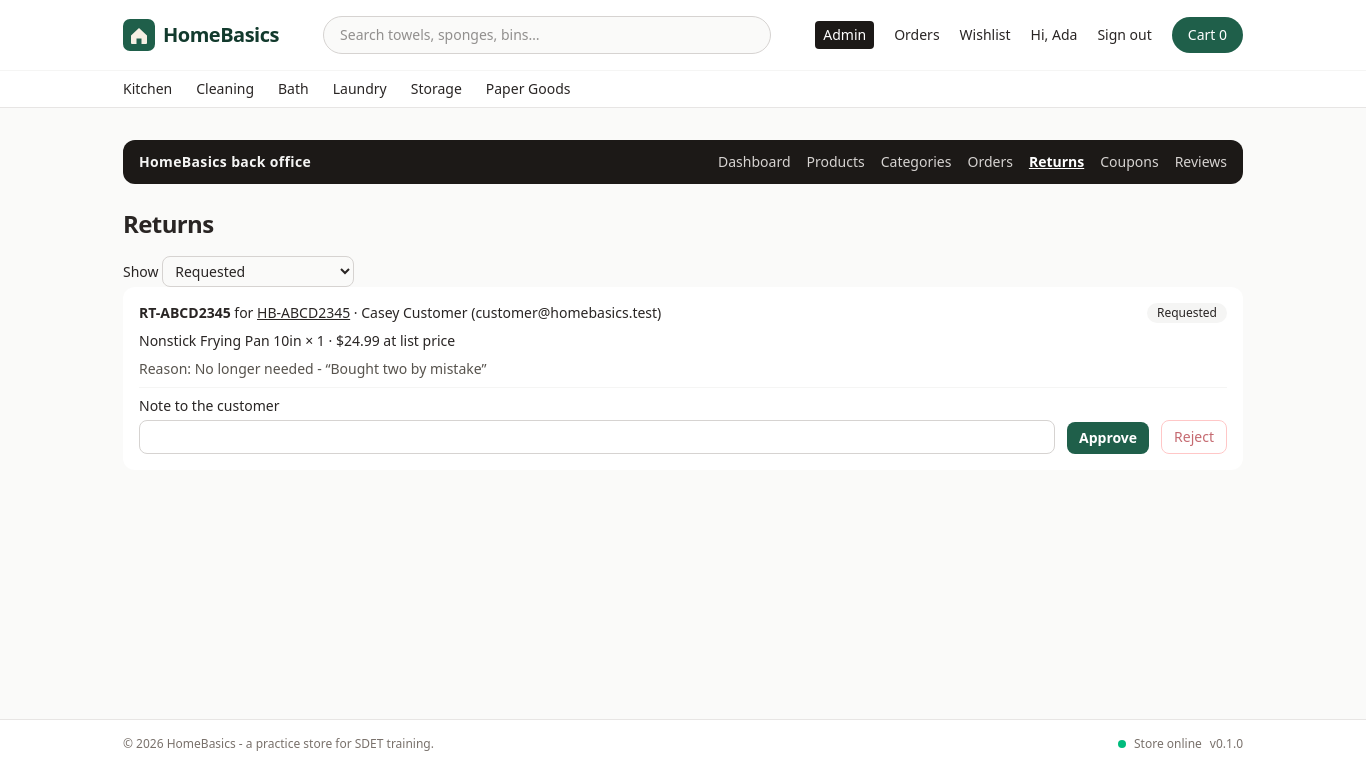
Test case: admin returns (ADM-07) › shows a conflict from the server
What coordinates should you click on to do the following:
click the button with test id "return-approve"
I would click on:
 (1108, 438)
Its box is x1=1067 y1=422 x2=1149 y2=454.
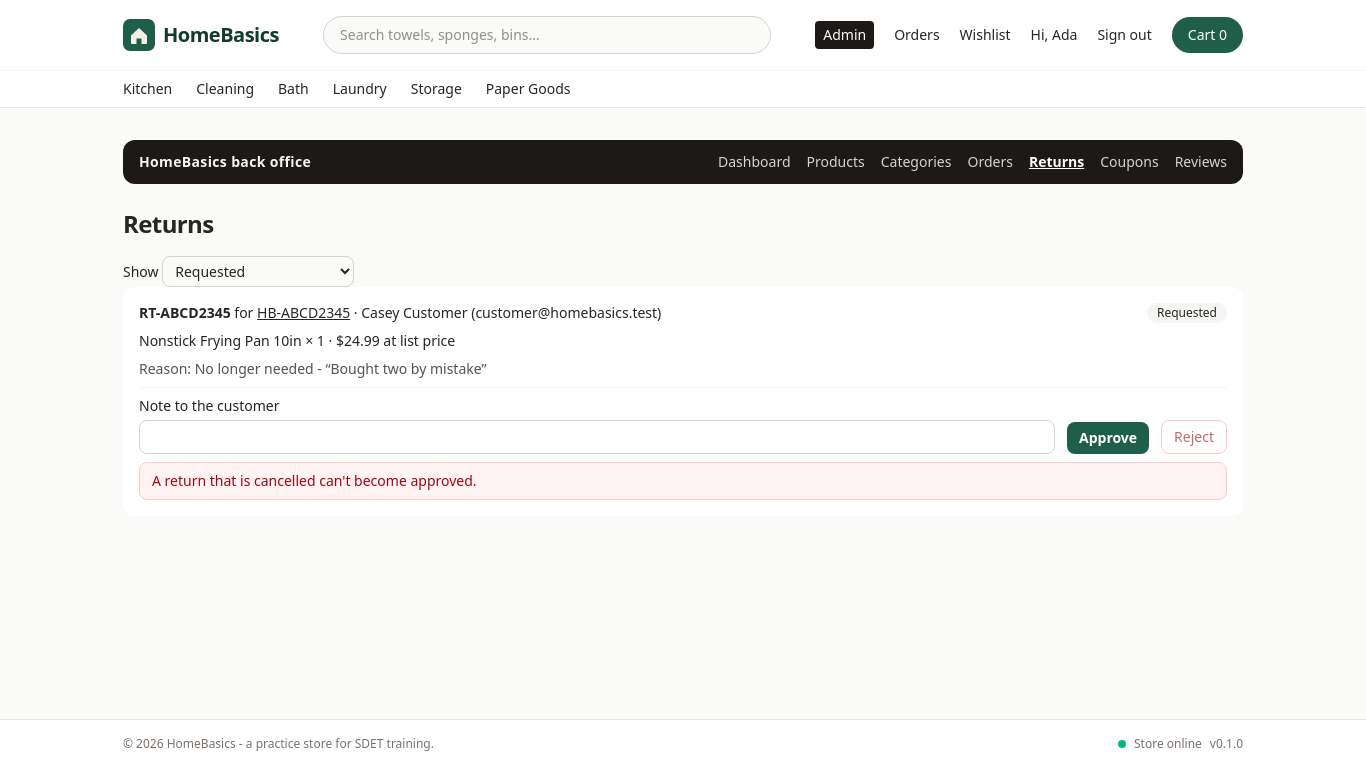
Check: the message with test id "admin-return-error" shows "can't become approved", box x1=152 y1=471 x2=477 y2=490
